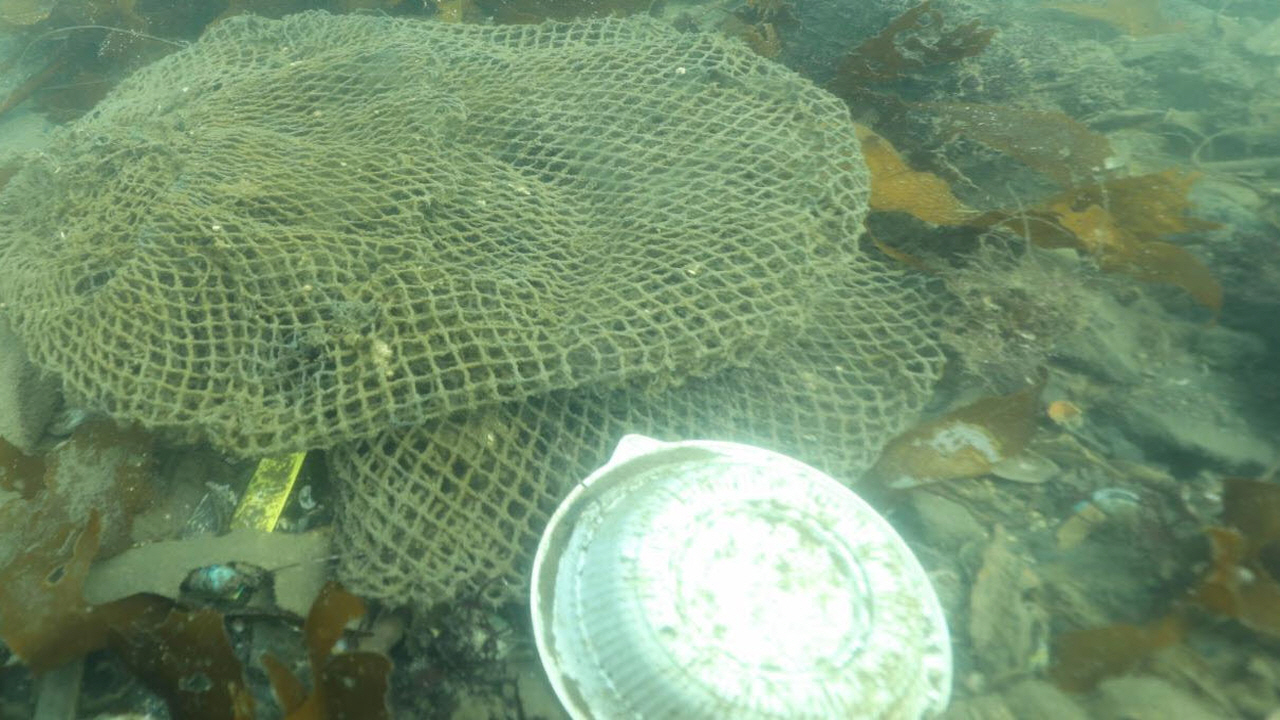fish net: (0, 7, 955, 610)
